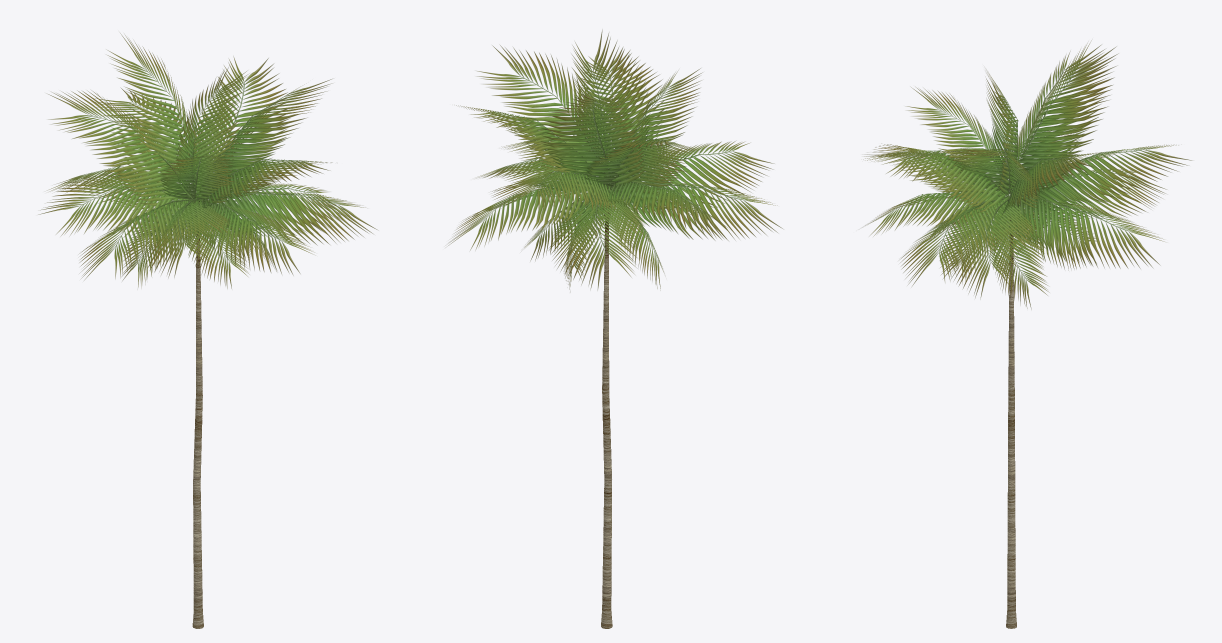
The model's file is palm-tree.gltf.
The picture shows the model from 3 angles, left to right: view 1: azimuth 30°, elevation 25°; view 2: azimuth 150°, elevation 25°; view 3: azimuth 270°, elevation 25°; orthographic projection. The views are drawn at different scales.
Bounding box in the file's own units: 29.77 × 50.65 × 29.79.
Materials: 1 (1 with a texture image).
